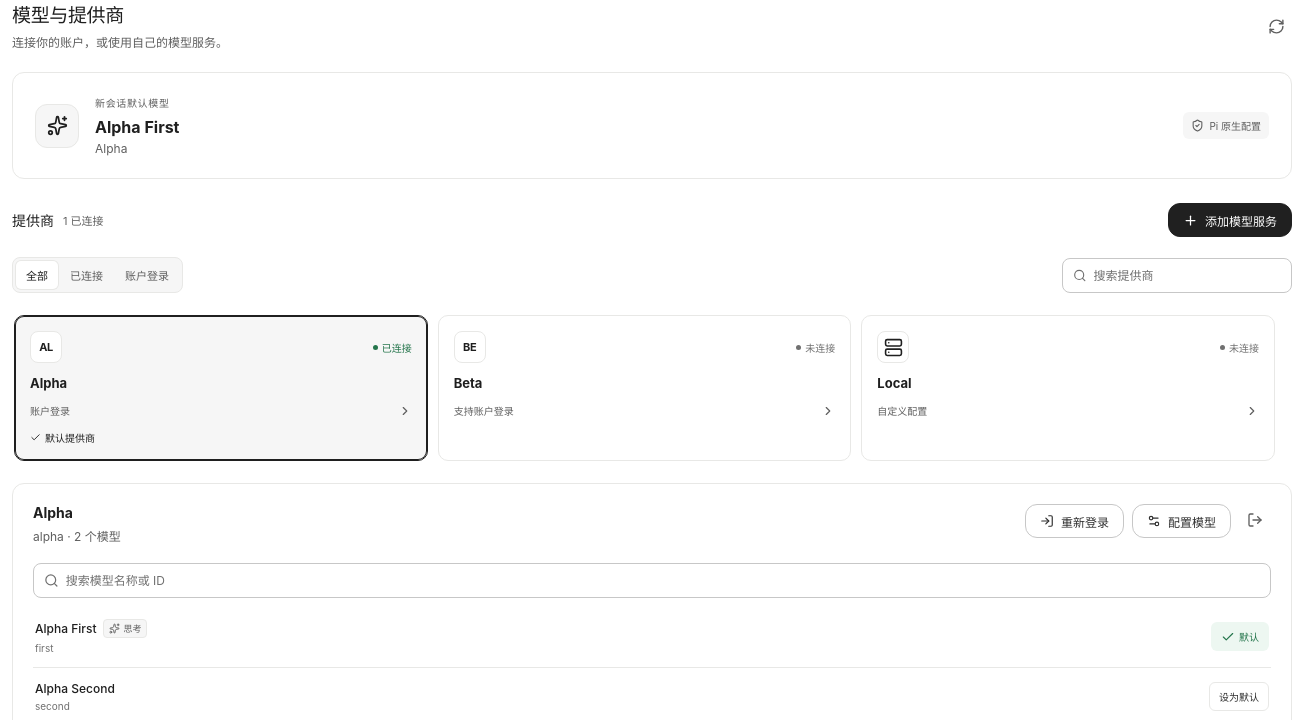
Scenario: ModelProviderSettings › filters providers and model names without changing the saved default
Click the button "已连接".
click(86, 275)  # box [60,261,113,289]
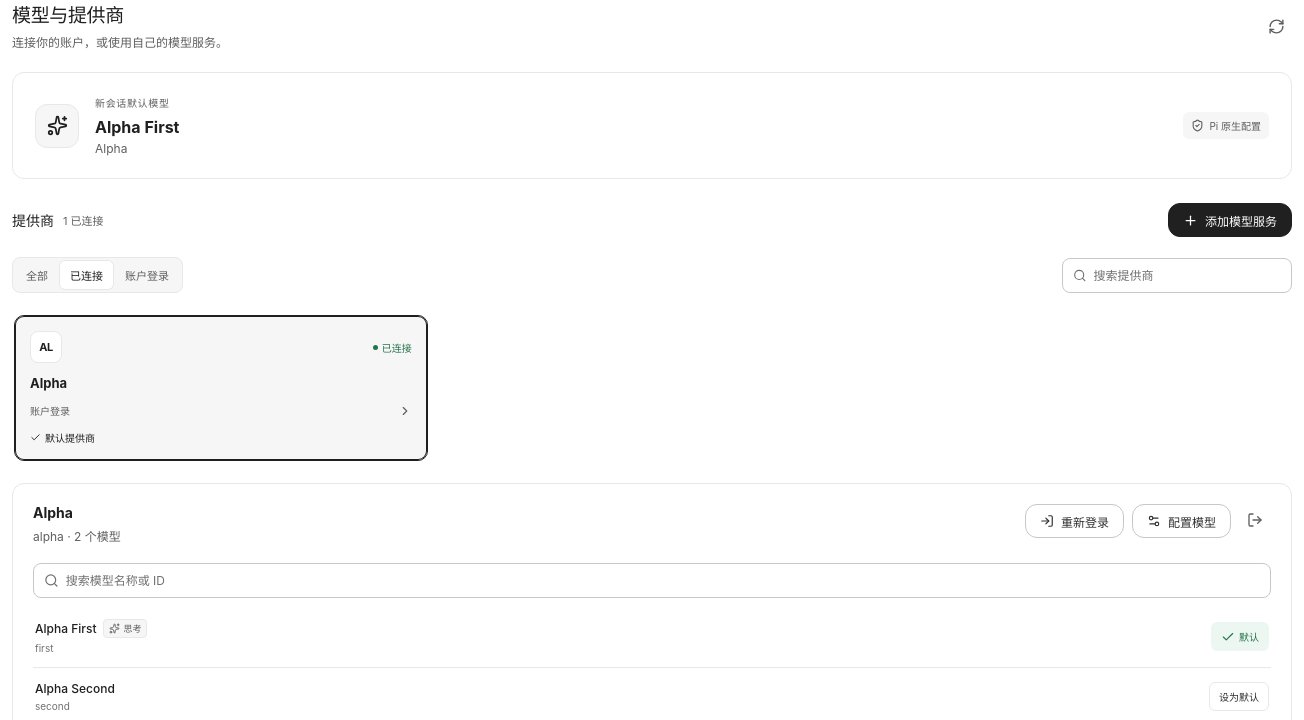
Click the button "账户登录".
click(147, 275)  # box [115,261,179,289]
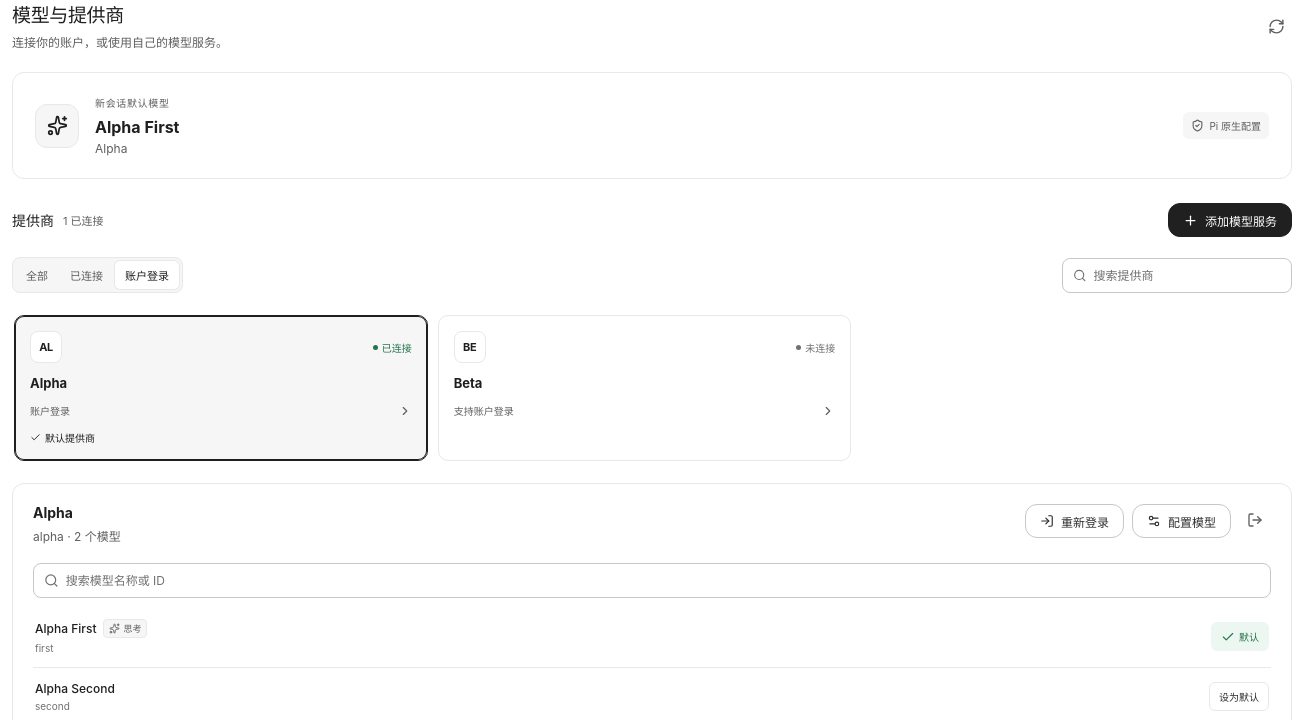
Expected: the button with aria-label "选择提供商 Beta" is shown, [438,315,851,461]
Type " missing " into the search field labelled "搜索提供商".
click(1187, 275); type(" missing ")  # box [1094,259,1281,292]
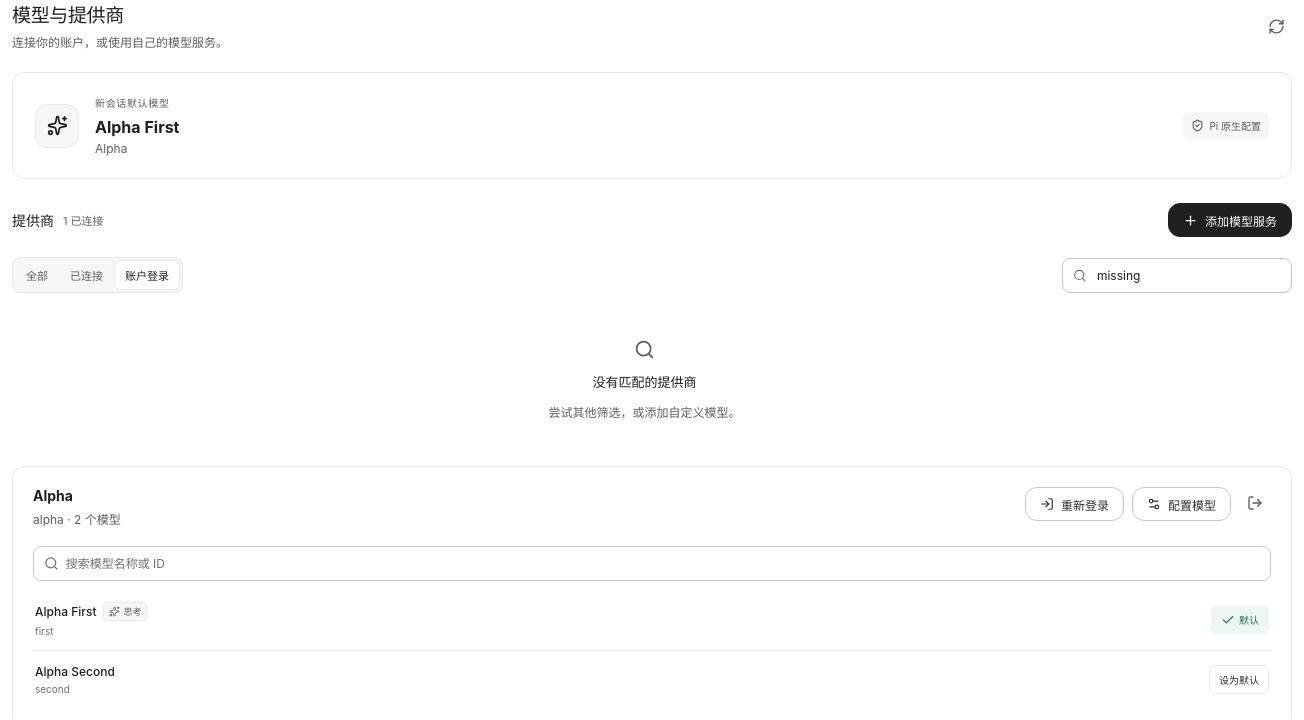
Expected: the text "没有匹配的提供商" is shown, [592,372,696,391]
Type "SECOND" into the search field named "搜索 Alpha 模型".
click(663, 564); type("SECOND")  # box [66,547,1260,580]
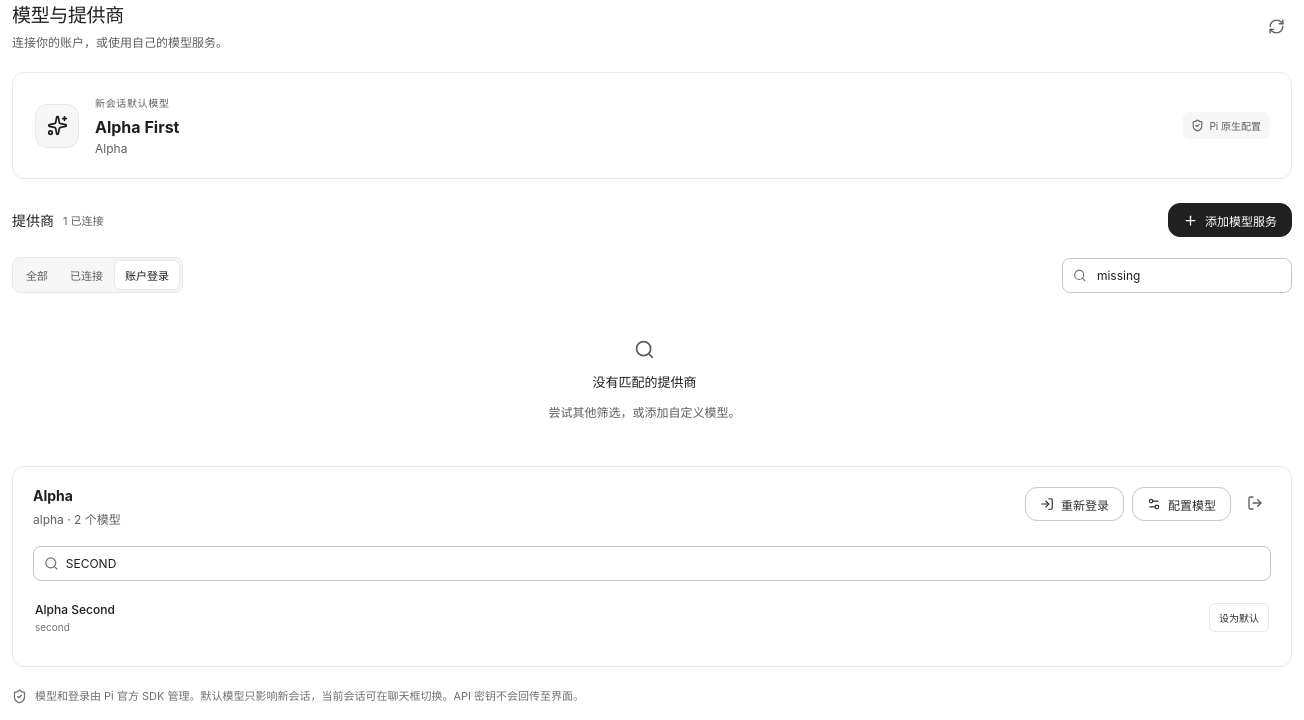
Replace the text in the search field named "搜索 Alpha 模型" with "missing" at {"x": 663, "y": 564}, box [66,547,1260,580]
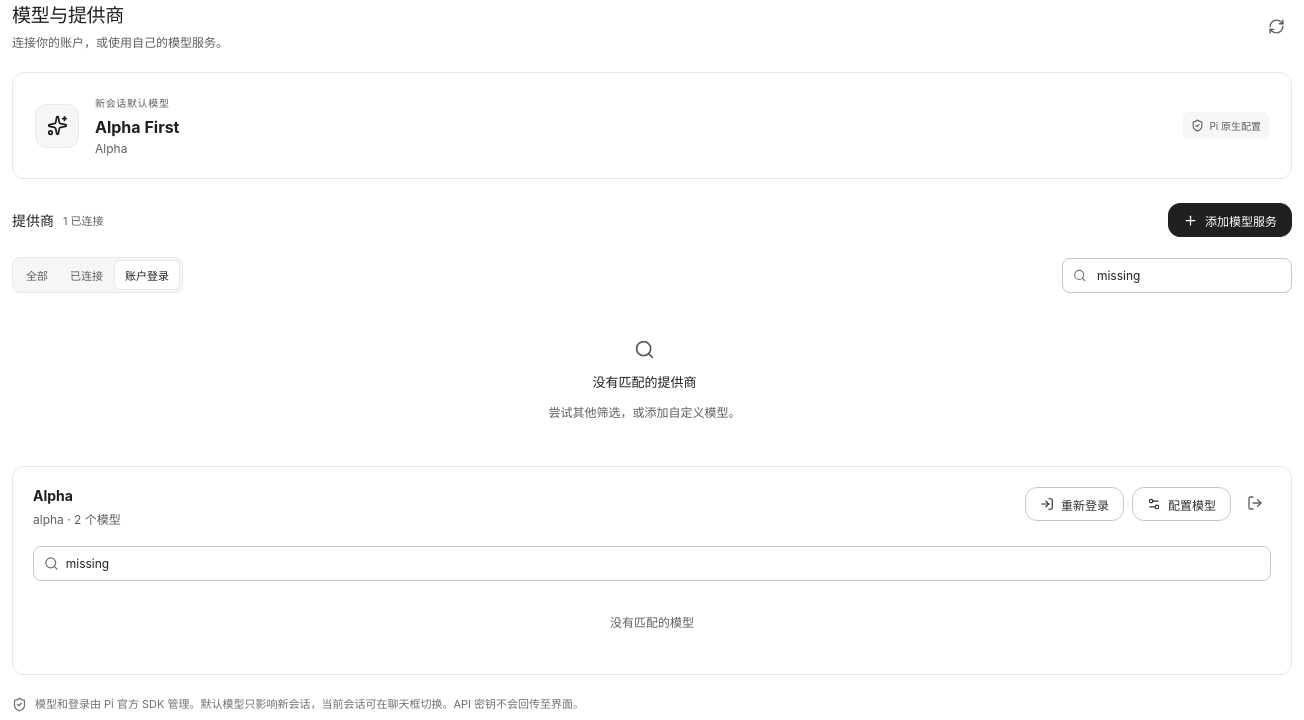
Expected: the text "没有匹配的模型" is shown, [610,613,694,630]
